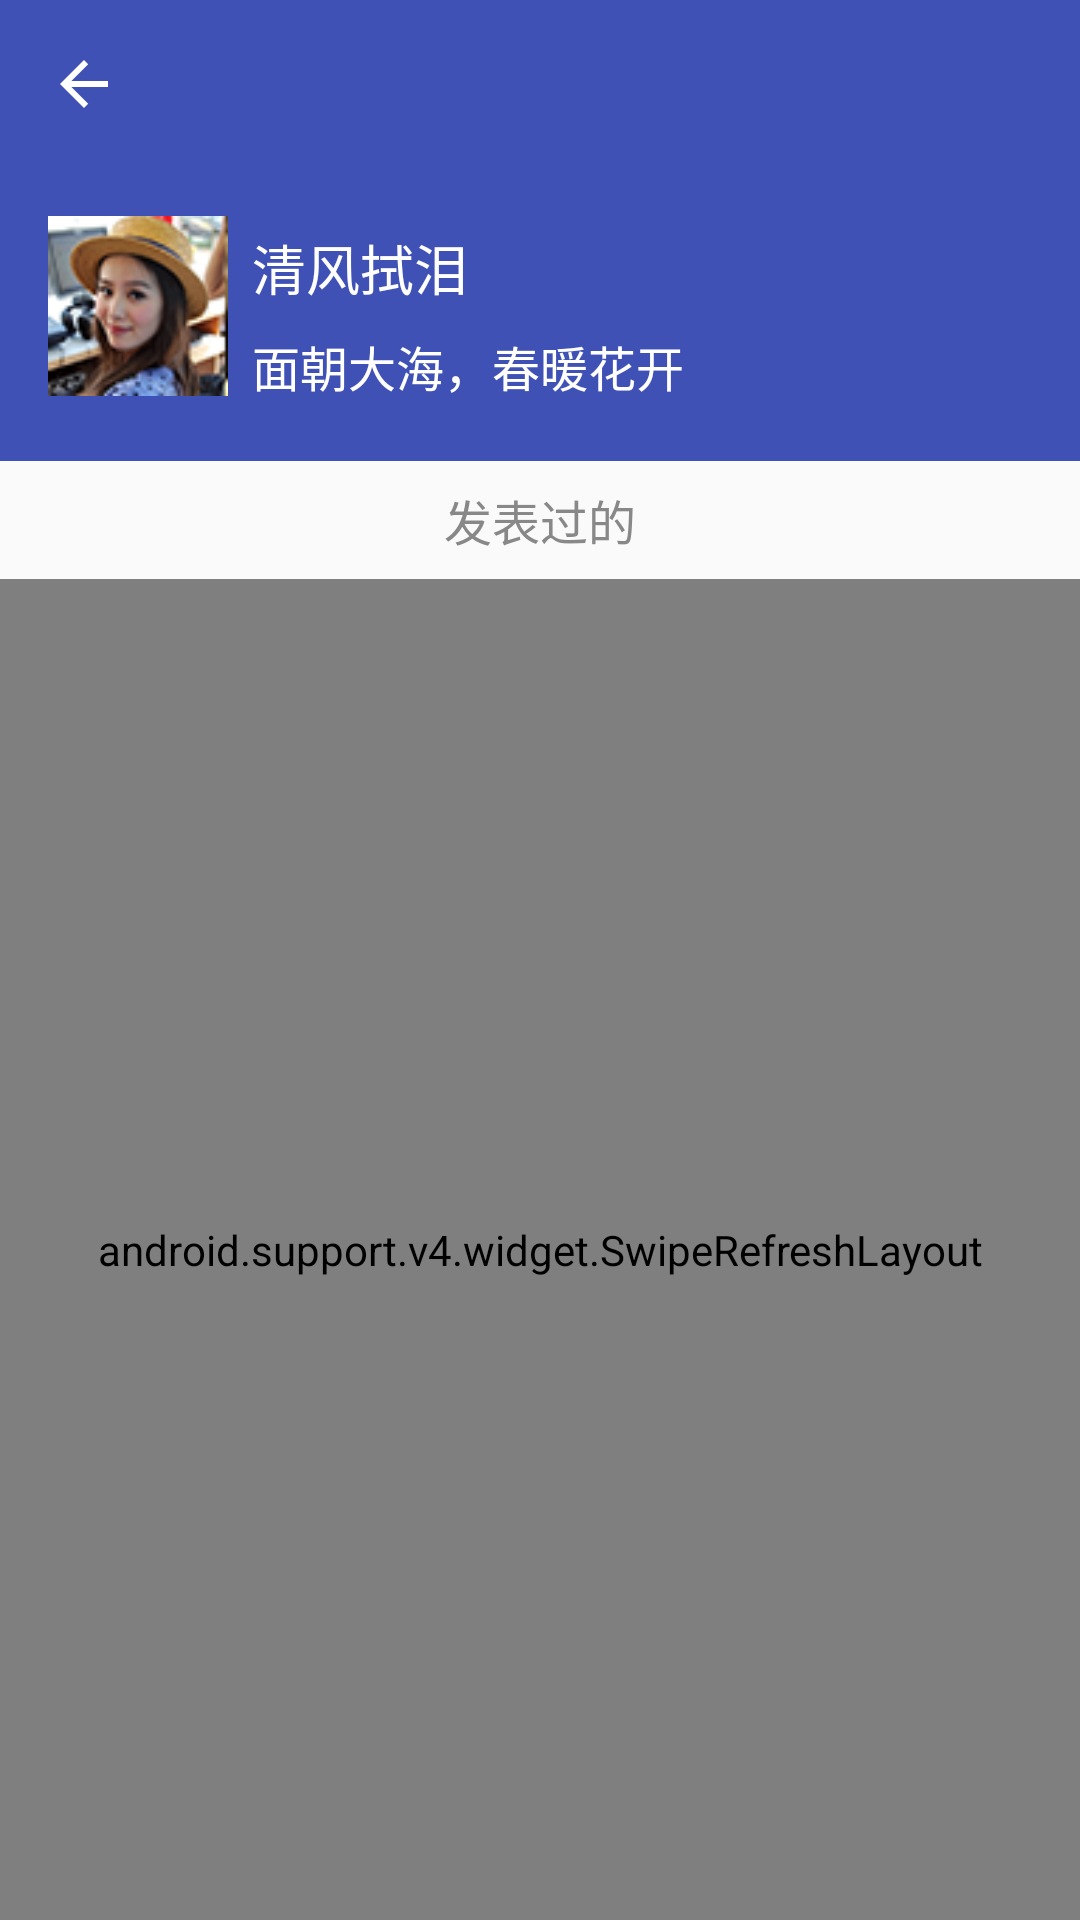

Icon click points for this 1080px x 1920px phone screenshot, format (x,y):
girl: (138,306)
